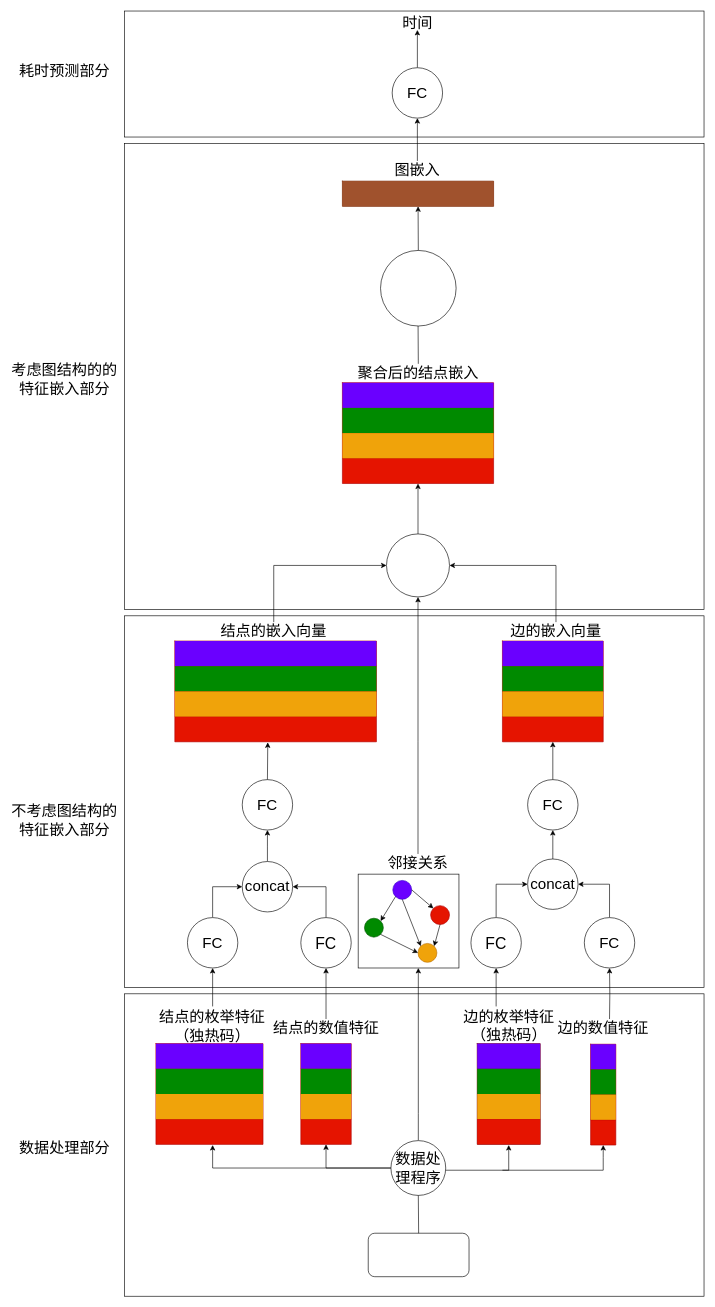
The diagram is 715 pixels wide and 1307 high, and some of its shapes have lost their labels. Here are the shapes that lost their labels. From the top down, the centre of each, then its label:
the point at 418,288: Reduction
the point at 418,565: GNN
the point at 418,1255: MLIR 和 Protobuf 文件
